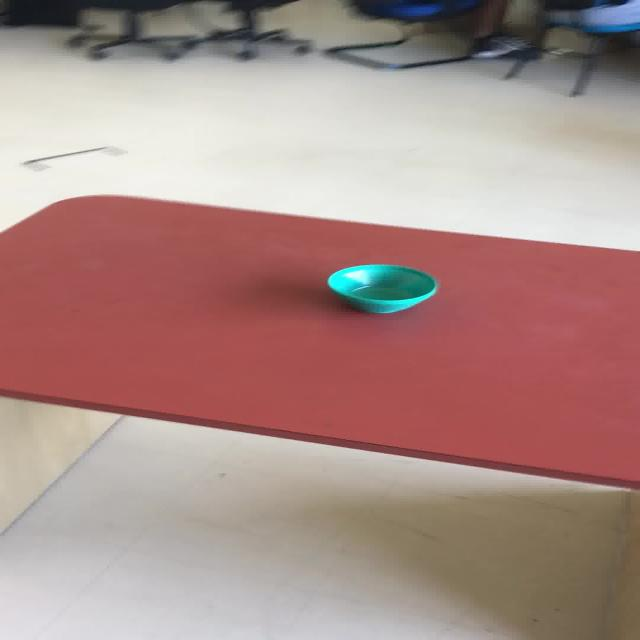bowl: (325, 263, 438, 314)
